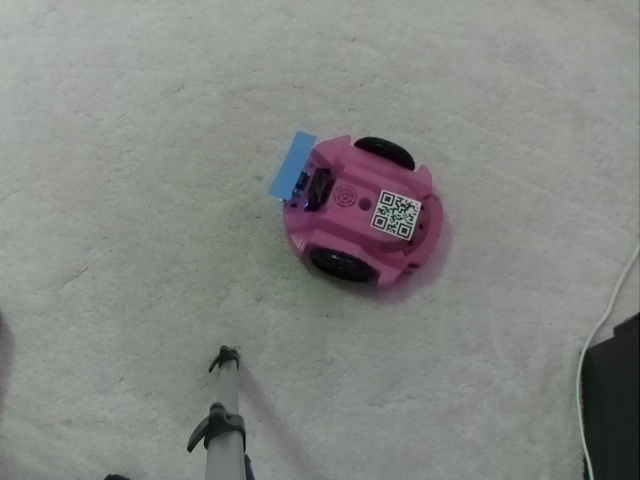chassis: (273, 129, 447, 290)
qr: (365, 187, 426, 243)
